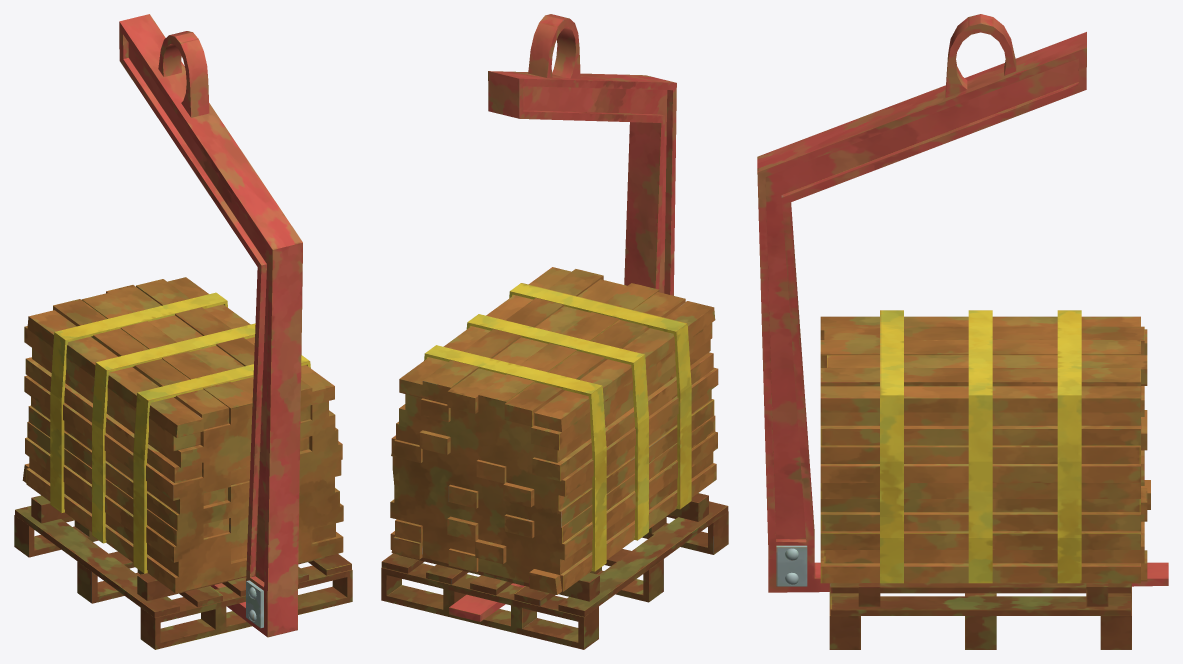
File: CaisseGrue.fbx
3 views of the same model, side by side, from view 1: azimuth 30°, elevation 25°; view 2: azimuth 150°, elevation 25°; view 3: azimuth 270°, elevation 25° (orthographic). The views are drawn at different scales.
Visible parts, largest first — view 1: Cube.091; view 2: Cube.091; view 3: Cube.091.
Boxes of the visible parts, <box> form: Cube.091: <box>14,14,352,649</box>; Cube.091: <box>381,14,728,649</box>; Cube.091: <box>757,14,1168,649</box>.
Bounding box in the file's own units: 549 × 1434 × 922.
